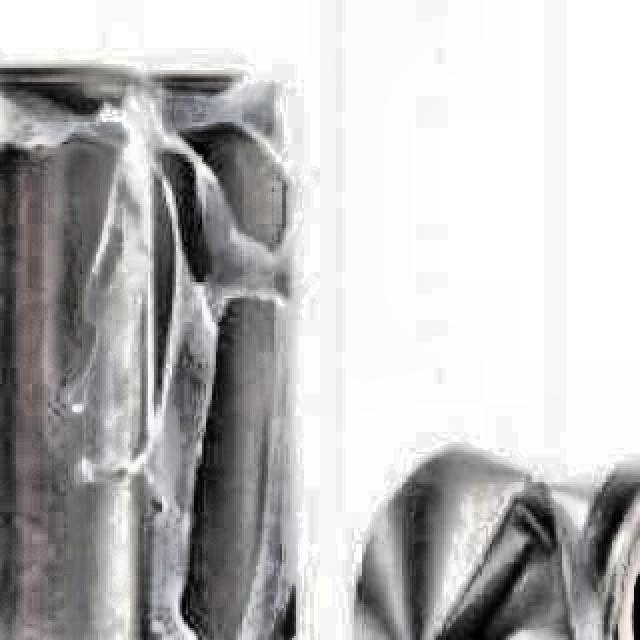metal: (114, 66, 308, 640), (0, 58, 170, 640), (346, 436, 640, 640)
